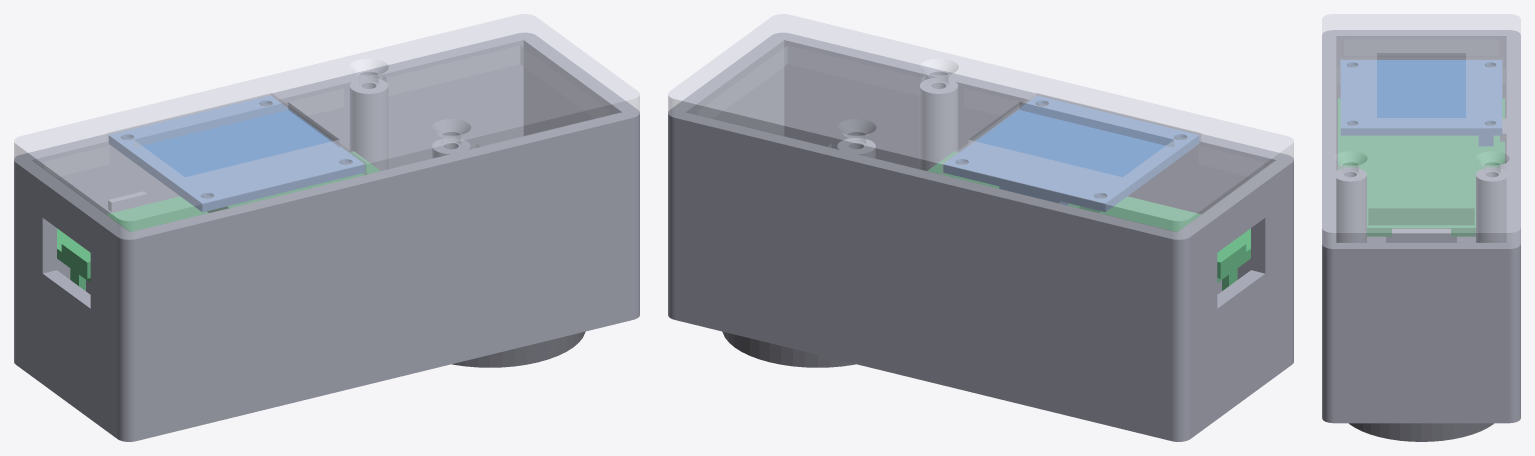
File: beeffresh_rakitan.glb
3 views of the same model, side by side, from view 1: azimuth 30°, elevation 25°; view 2: azimuth 150°, elevation 25°; view 3: azimuth 270°, elevation 25° (orthographic). The views are drawn at different scales.
Parts seen in each view (by area): view 1: Badan bawah, Tutup, OLED (tiruan), ESP32 (tiruan), Tabung gelap; view 2: Badan bawah, Tutup, OLED (tiruan), ESP32 (tiruan), Tabung gelap; view 3: Badan bawah, Tutup, ESP32 (tiruan), OLED (tiruan), Tabung gelap.
Part boxes in pixels (x1,y1,x2,y2): Badan bawah: (14, 32, 639, 441); Tutup: (14, 14, 639, 239); OLED (tiruan): (108, 95, 364, 212); ESP32 (tiruan): (57, 151, 379, 290); Tabung gelap: (452, 331, 585, 367); Badan bawah: (668, 32, 1293, 441); Tutup: (668, 14, 1293, 239); OLED (tiruan): (943, 95, 1199, 212); ESP32 (tiruan): (928, 151, 1250, 290); Tabung gelap: (722, 331, 855, 367); Badan bawah: (1322, 30, 1520, 423); Tutup: (1322, 14, 1520, 248); ESP32 (tiruan): (1338, 98, 1504, 236); OLED (tiruan): (1340, 60, 1502, 146); Tabung gelap: (1349, 423, 1493, 441).
Size of the model in its own units: 0.0876 by 0.0401 by 0.0336.
